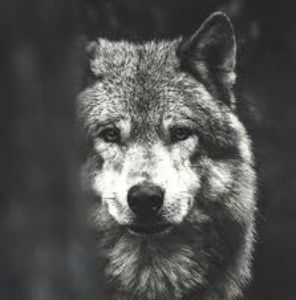wolf: (75, 20, 263, 294)
